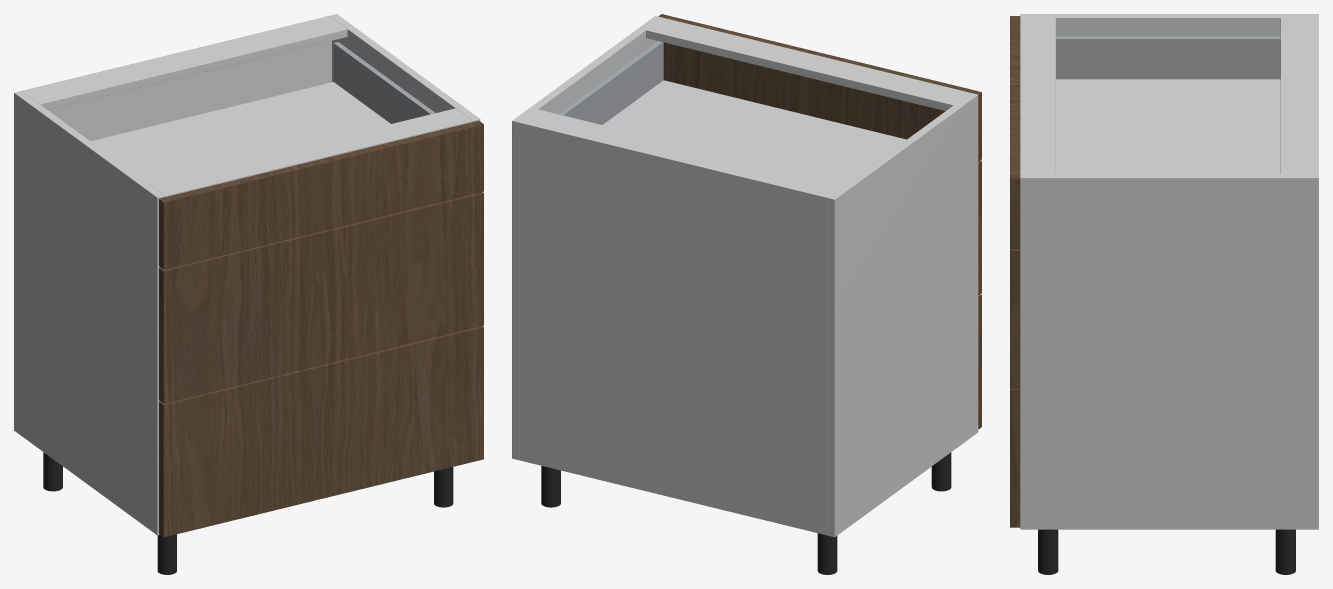
Rendered from oppein-ply-mso-3db30.glb.
The picture shows the model from 3 angles, left to right: view 1: azimuth 30°, elevation 25°; view 2: azimuth 150°, elevation 25°; view 3: azimuth 270°, elevation 25°; orthographic projection. The views are drawn at different scales.
Parts seen in each view (by area): view 1: Cabinet side, Drawer front, Drawer front.001, Drawer front.002, Drawer floor.002, Cabinet back, Top support rail, Top support rail.001, Drawer side.005, Cabinet side.001, Adjustable foot.001, Adjustable foot.003 (+1 smaller); view 2: Cabinet back, Cabinet side, Drawer floor.002, Drawer front.002, Top support rail.001, Cabinet side.001, Top support rail, Drawer side.005, Cabinet bottom, Adjustable foot, Adjustable foot.002, Adjustable foot.001; view 3: Cabinet side.001, Drawer floor.002, Drawer side.004, Top support rail.001, Cabinet side, Top support rail, Drawer front.002, Drawer front, Drawer front.001, Adjustable foot.003, Adjustable foot.002, Cabinet back.
Boxes of the visible parts, <box> form: Cabinet side: <box>14,91,164,535</box>; Drawer front: <box>159,326,483,537</box>; Drawer front.001: <box>159,192,483,403</box>; Drawer front.002: <box>159,120,483,269</box>; Drawer floor.002: <box>90,82,390,183</box>; Cabinet back: <box>22,16,331,140</box>; Top support rail: <box>23,17,347,109</box>; Top support rail.001: <box>148,108,472,197</box>; Drawer side.005: <box>333,42,435,123</box>; Cabinet side.001: <box>329,14,480,121</box>; Adjustable foot.001: <box>157,534,176,574</box>; Adjustable foot.003: <box>434,467,453,507</box>; Cabinet back: <box>519,120,829,534</box>; Cabinet side: <box>827,93,978,537</box>; Drawer floor.002: <box>603,80,906,184</box>; Drawer front.002: <box>658,14,981,161</box>; Top support rail.001: <box>646,18,970,110</box>; Cabinet side.001: <box>512,16,662,460</box>; Top support rail: <box>523,109,844,195</box>; Drawer side.005: <box>558,41,663,124</box>; Cabinet bottom: <box>520,453,826,535</box>; Adjustable foot: <box>817,533,837,574</box>; Adjustable foot.002: <box>541,466,560,507</box>; Adjustable foot.001: <box>931,452,951,491</box>; Cabinet side.001: <box>1020,174,1318,529</box>; Drawer floor.002: <box>1056,79,1280,174</box>; Drawer side.004: <box>1056,36,1280,79</box>; Top support rail.001: <box>1020,18,1055,174</box>; Cabinet side: <box>1020,14,1318,36</box>; Top support rail: <box>1280,18,1315,174</box>; Drawer front.002: <box>1010,16,1020,248</box>; Drawer front: <box>1010,388,1020,527</box>; Drawer front.001: <box>1010,249,1020,388</box>; Adjustable foot.003: <box>1038,529,1058,574</box>; Adjustable foot.002: <box>1275,529,1295,574</box>; Cabinet back: <box>1313,18,1318,174</box>.
Bounding box in the file's own units: 0.762 × 0.8763 × 0.6064.
Materials: 4 (1 with a texture image).
